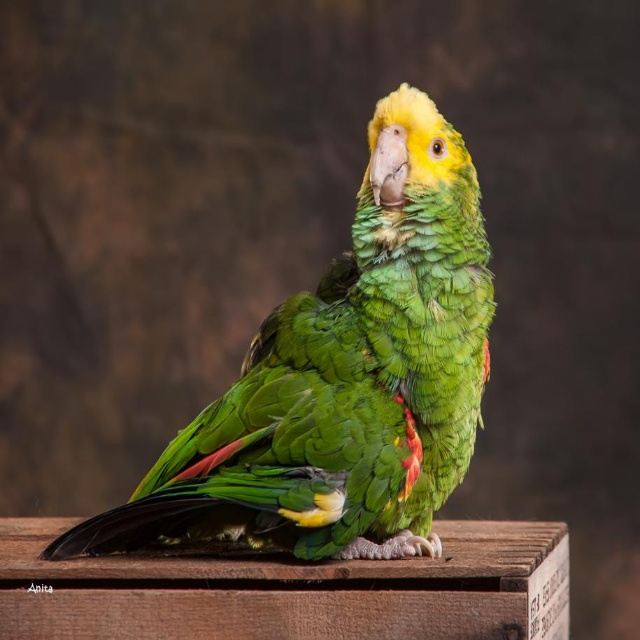Parrot: (36, 80, 494, 564)
